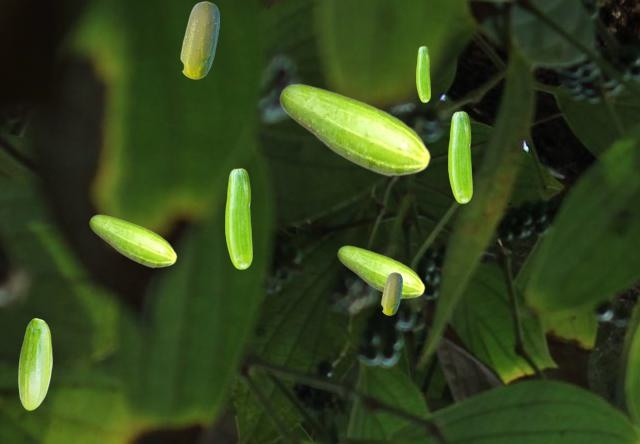cucumber: (279, 83, 430, 176), (337, 245, 424, 298), (89, 214, 176, 267), (18, 318, 51, 409), (180, 1, 218, 78), (225, 168, 251, 268), (448, 111, 471, 202), (381, 272, 401, 314), (416, 46, 429, 101)
